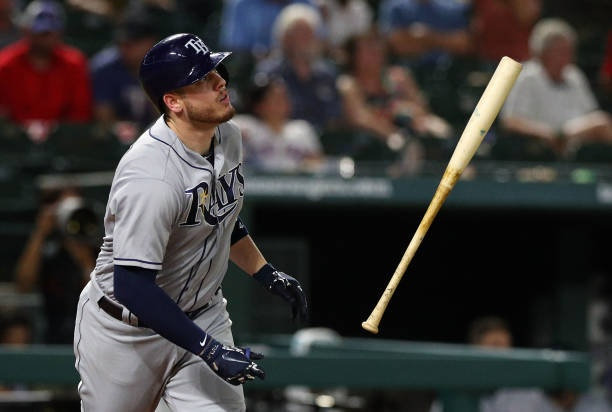bita: (358, 53, 522, 336)
